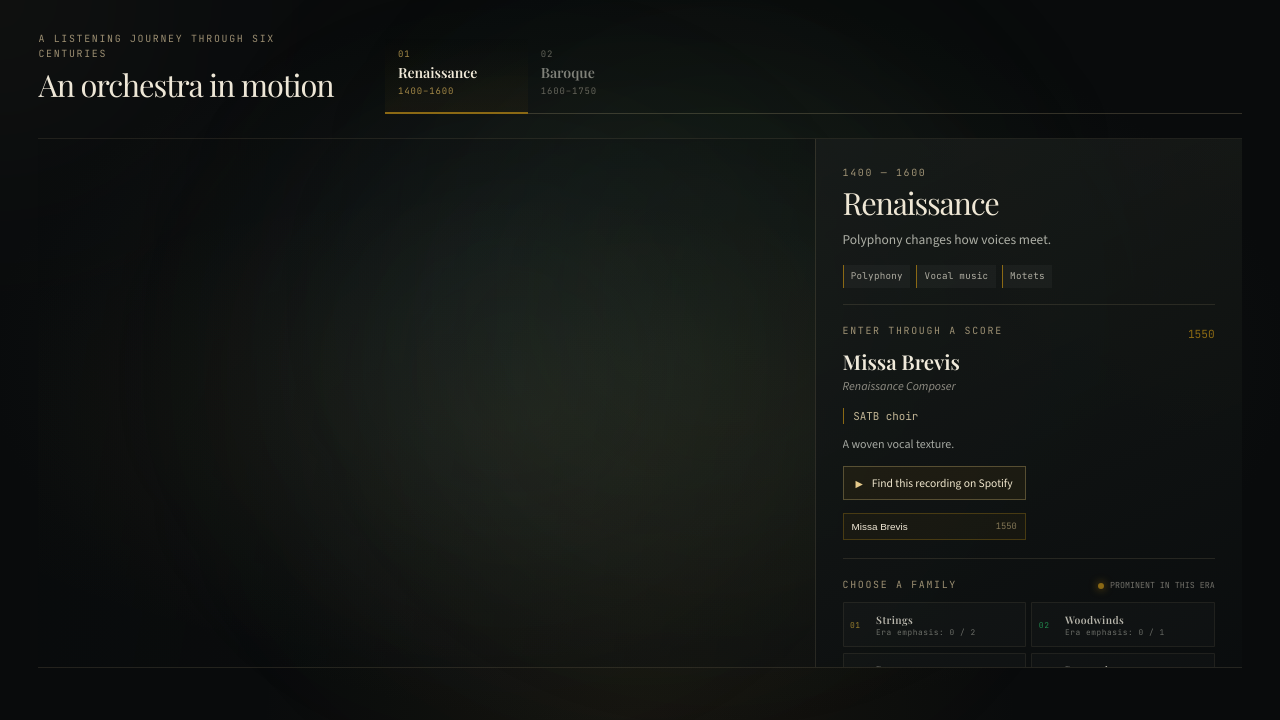
Test: OrchestraExplorer › recomposes the story and instrument counts when the era changes
Click the tab with aria-label "Baroque, 1600–1750".
click(599, 75)  # box 528,37 -> 671,113
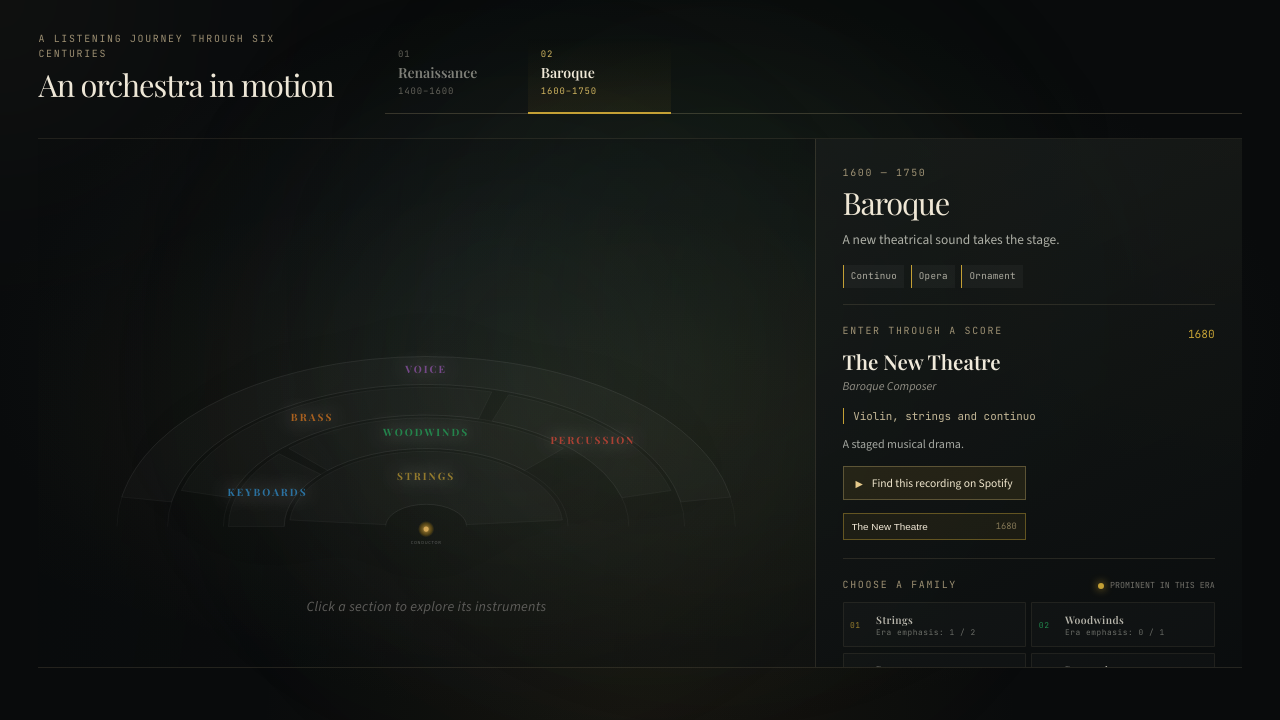
Expected: the heading "Baroque" is shown, 842,182 -> 949,223
Expected: the text "A staged musical drama." is shown, 842,436 -> 964,452
Expected: the text "A new theatrical sound takes the stage." is shown, 842,231 -> 1060,248
